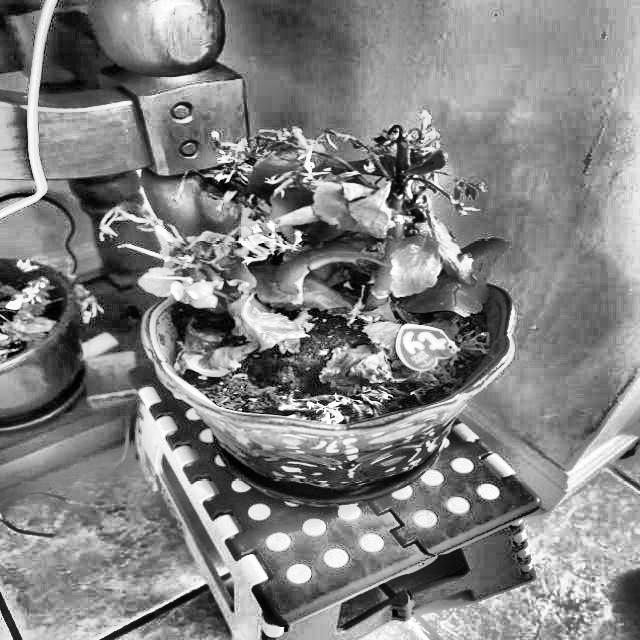plants: (80, 111, 568, 416)
